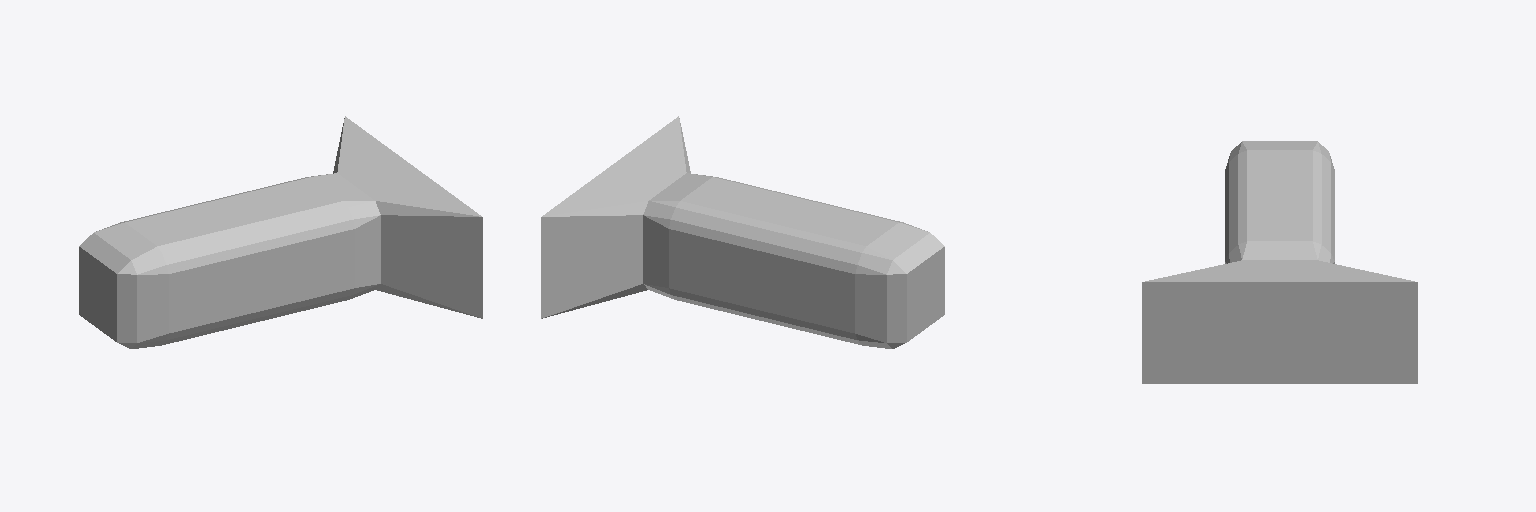
The model's file is Flashlight.obj.
3 views of the same model, side by side, from view 1: azimuth 30°, elevation 25°; view 2: azimuth 150°, elevation 25°; view 3: azimuth 270°, elevation 25° (orthographic).
Visible parts, largest first — view 1: Cube; view 2: Cube; view 3: Cube.
Boxes of the visible parts, x1=… form: Cube: x1=79, y1=116, x2=482, y2=348; Cube: x1=541, y1=116, x2=944, y2=348; Cube: x1=1142, y1=141, x2=1417, y2=383.
Bounding box in the file's own units: 0.5625 × 0.1736 × 0.426.